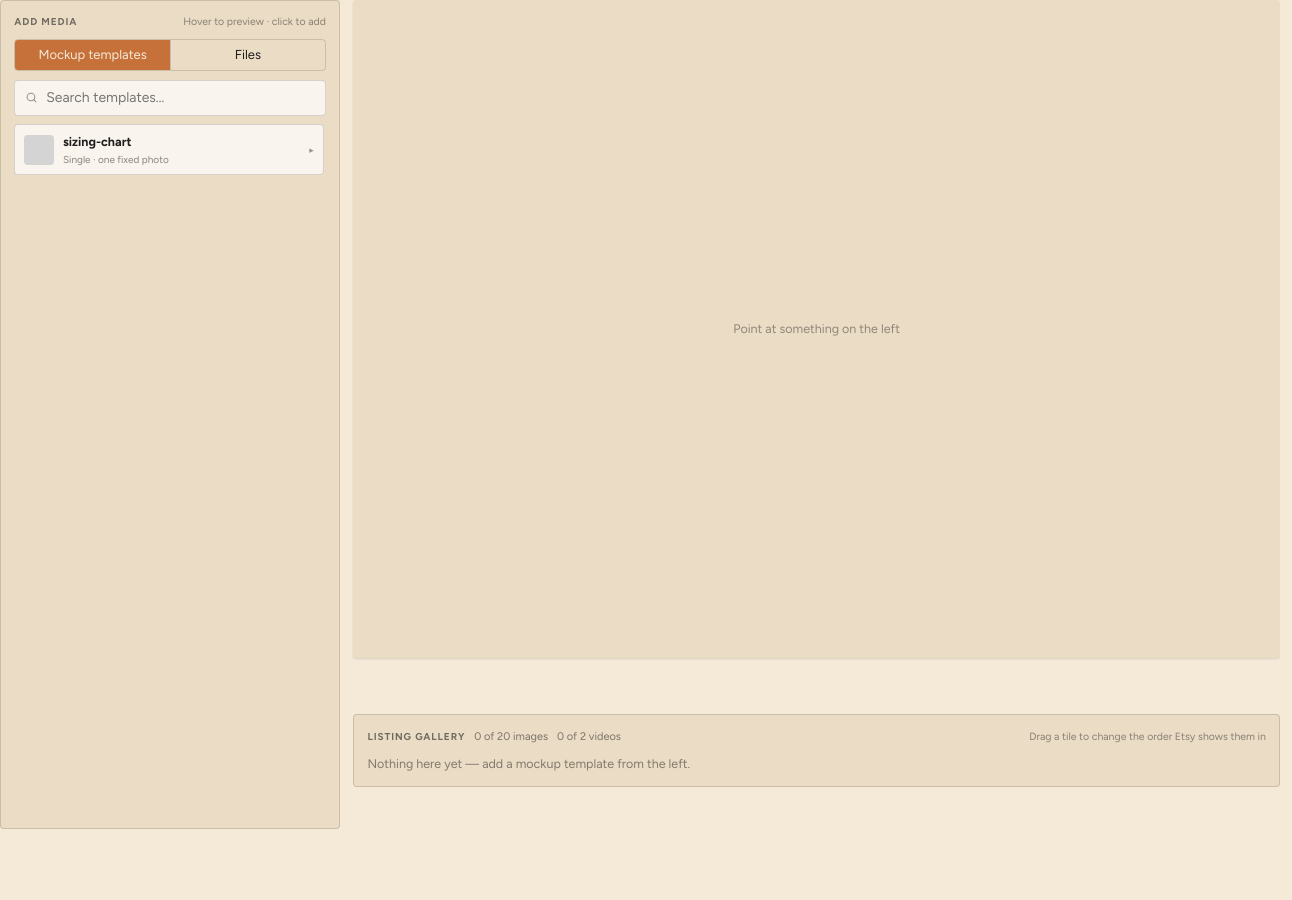
ImagesTab › names a scene template's fixed photo, which carries no colour
Hover over the text "sizing-chart": (97, 142) [63,134,131,149]
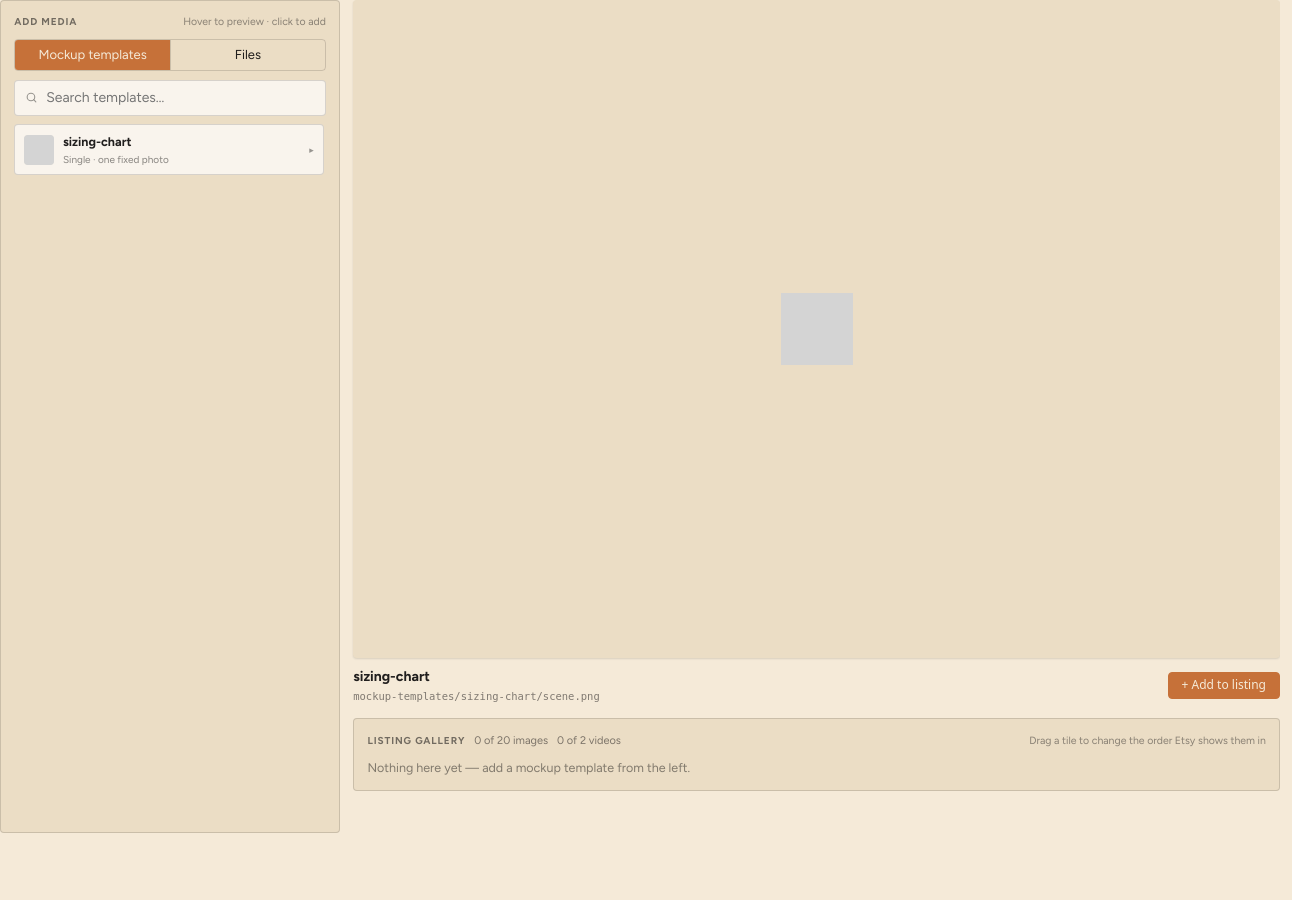
Expected: the text "mockup-templates/sizing-chart/scene.png" is shown, [353,690,600,702]
